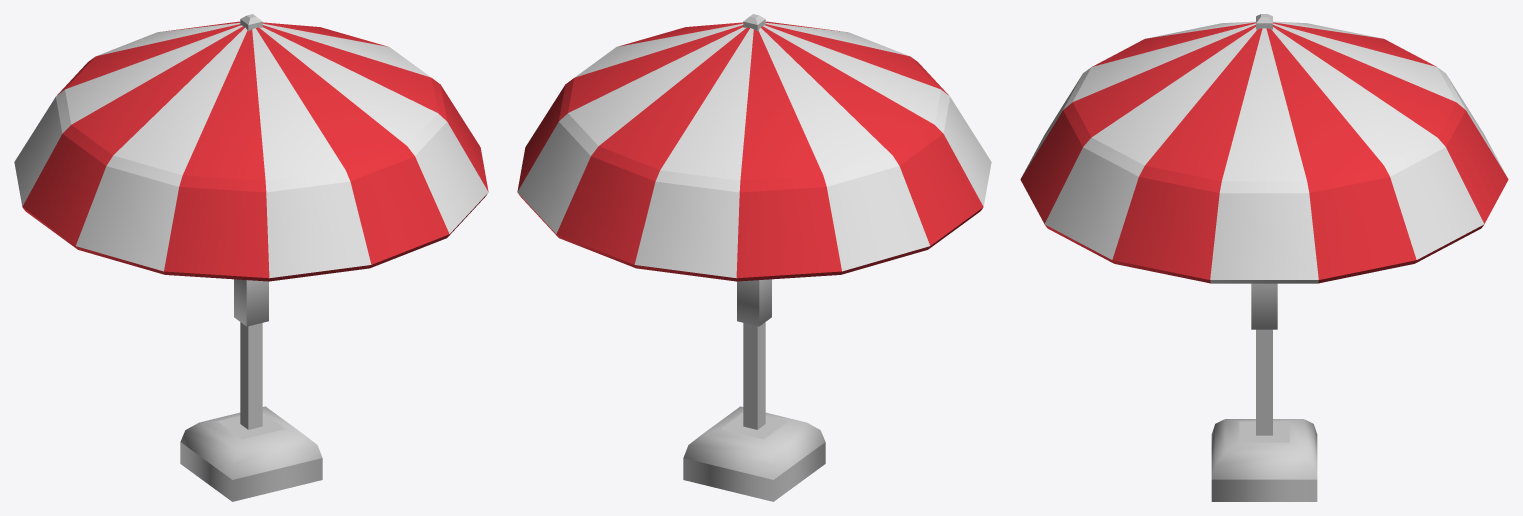
The model's file is SunShade.fbx.
The picture shows the model from 3 angles, left to right: view 1: azimuth 30°, elevation 25°; view 2: azimuth 150°, elevation 25°; view 3: azimuth 270°, elevation 25°; orthographic projection.
Visible parts, largest first — view 1: Sunshade; view 2: Sunshade; view 3: Sunshade.
Boxes of the visible parts, bbox=[...] form: Sunshade: bbox=[14, 14, 488, 501]; Sunshade: bbox=[517, 14, 991, 501]; Sunshade: bbox=[1020, 14, 1508, 501].
Size of the model in its own units: 698 by 751 by 716.
